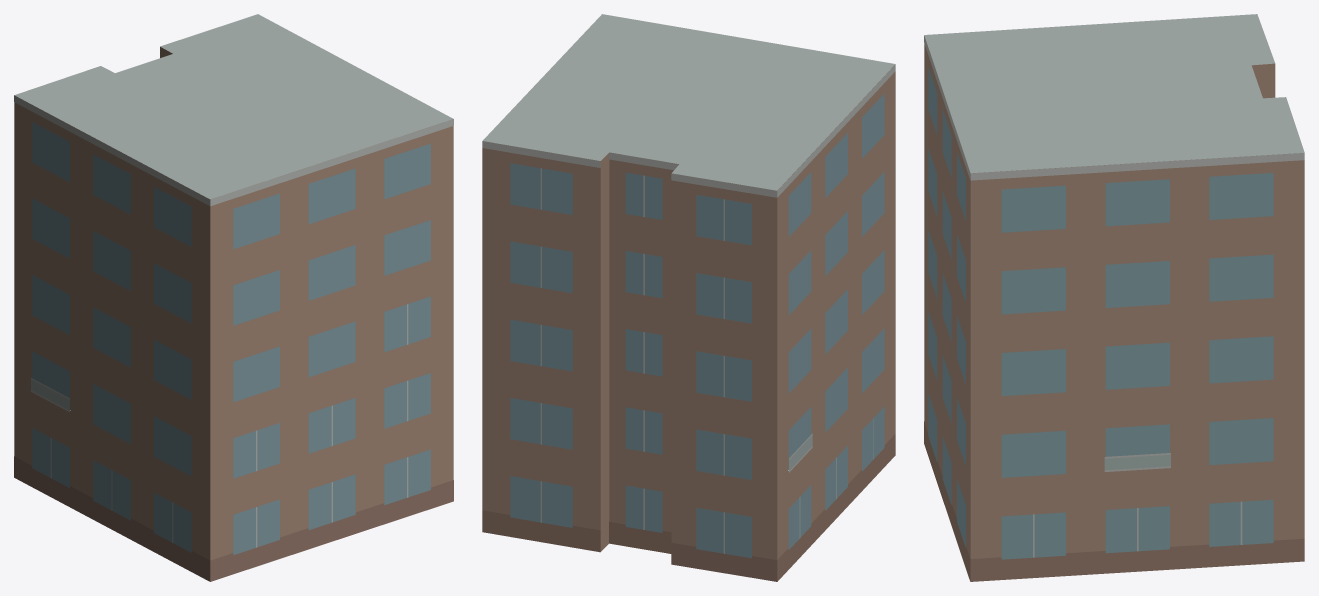
The model's file is survey-upis-32708424.glb.
The picture shows the model from 3 angles, left to right: view 1: azimuth 30°, elevation 25°; view 2: azimuth 150°, elevation 25°; view 3: azimuth 270°, elevation 25°; orthographic projection. The views are drawn at different scales.
Parts seen in each view (by area): view 1: survey-upis-32708424.tmp; view 2: survey-upis-32708424.tmp; view 3: survey-upis-32708424.tmp.
Boxes of the visible parts, x1=… form: survey-upis-32708424.tmp: x1=14, y1=14, x2=453, y2=581; survey-upis-32708424.tmp: x1=482, y1=14, x2=895, y2=581; survey-upis-32708424.tmp: x1=924, y1=14, x2=1304, y2=581.
Size of the model in its own units: 11.38 by 13.6 by 11.49.
